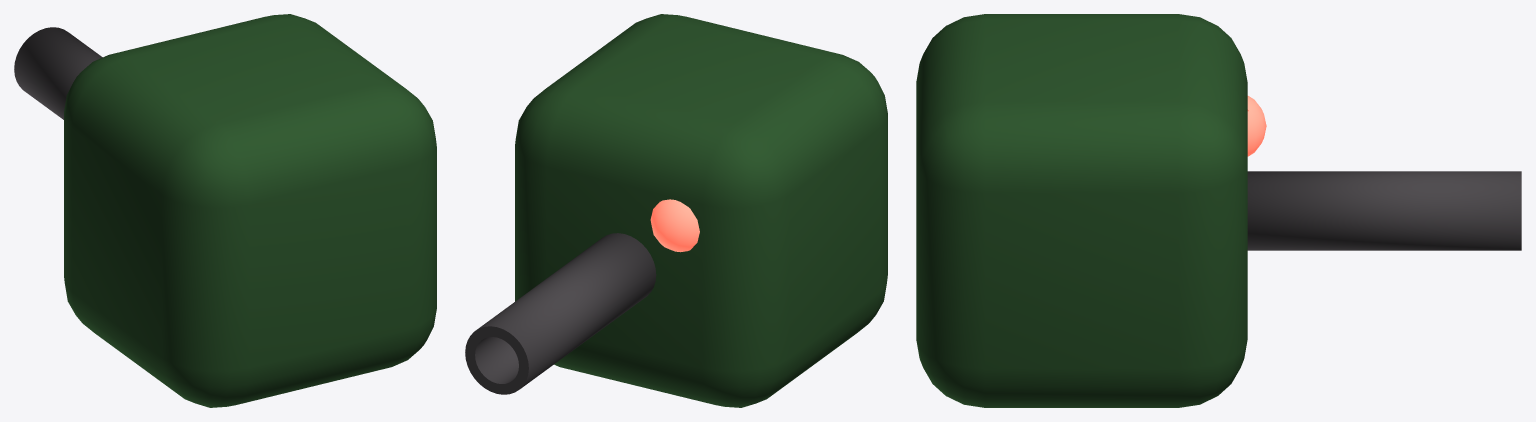
File: turret2.glb
3 renders of one model, left to right at view 1: azimuth 30°, elevation 25°; view 2: azimuth 150°, elevation 25°; view 3: azimuth 270°, elevation 25°, orthographic. The views are drawn at different scales.
Parts seen in each view (by area): view 1: Cylinder; view 2: Cylinder; view 3: Cylinder.
Boxes of the visible parts, <box> form: Cylinder: <box>14,14,436,407</box>; Cylinder: <box>465,14,887,407</box>; Cylinder: <box>916,14,1521,407</box>.
Bounding box in the file's own units: 0.7536 × 0.7536 × 1.38.
